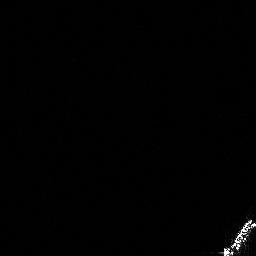ship: (218, 216, 256, 256)
